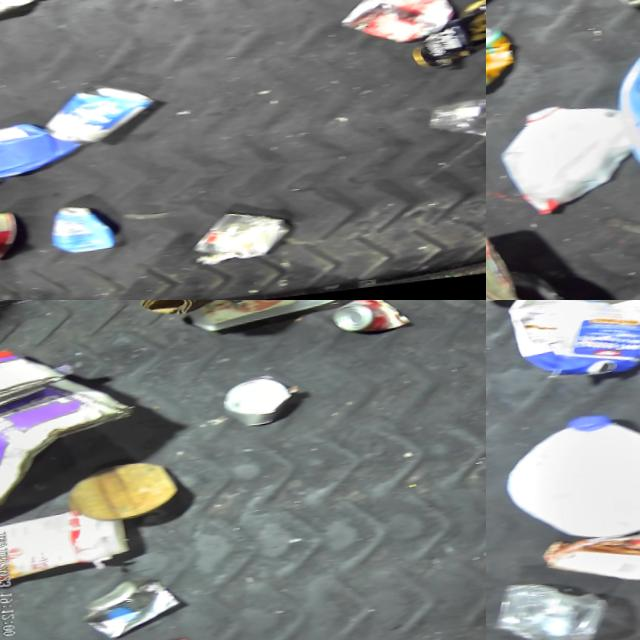can: (489, 571, 615, 640), (40, 78, 160, 150), (76, 573, 185, 640), (184, 206, 295, 267), (335, 0, 460, 53), (218, 372, 299, 431), (327, 300, 412, 339), (486, 21, 521, 101), (0, 206, 26, 271)
milk_jug: (495, 402, 640, 550), (492, 97, 636, 220), (180, 300, 362, 336)
non_white_jug: (502, 300, 640, 385)
plastic_bottle: (419, 86, 486, 163)
